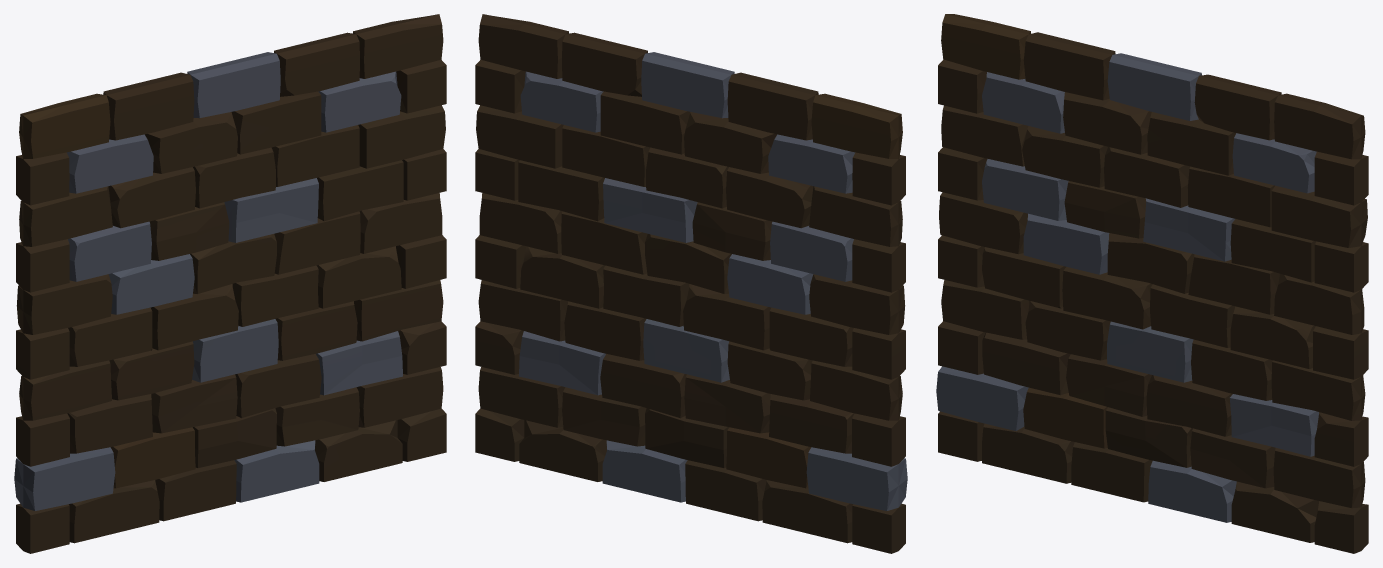
Rendered from Wall_01.fbx.
The picture shows the model from 3 angles, left to right: view 1: azimuth 30°, elevation 25°; view 2: azimuth 150°, elevation 25°; view 3: azimuth 330°, elevation 25°; orthographic projection.
Parts seen in each view (by area): view 1: Wall_01; view 2: Wall_01; view 3: Wall_01.
Boxes of the visible parts, <box> form: Wall_01: <box>14,14,446,553</box>; Wall_01: <box>475,14,907,553</box>; Wall_01: <box>936,14,1368,553</box>.
Bounding box in the file's own units: 4 × 4 × 0.3136.
